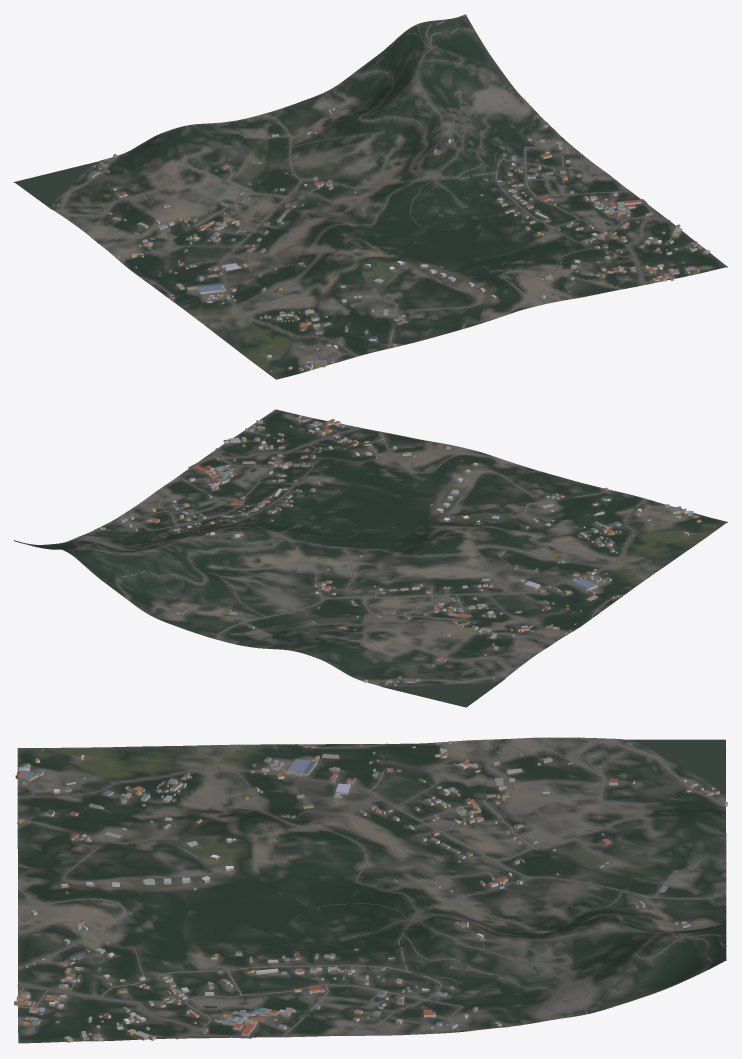
3 views of the same model, one above another, from view 1: azimuth 30°, elevation 25°; view 2: azimuth 150°, elevation 25°; view 3: azimuth 270°, elevation 25° (orthographic). The views are drawn at different scales.
Visible parts, largest first — view 1: ground, buildings, roads, water; view 2: ground, buildings, roads, water; view 3: ground, buildings, roads, water.
Part boxes in pixels (box(x1,y1,x2,y2)): ground: box(14, 14, 727, 379); buildings: box(57, 106, 710, 371); roads: box(61, 15, 699, 369); water: box(15, 162, 610, 225); ground: box(14, 409, 727, 707); buildings: box(100, 415, 715, 685); roads: box(15, 418, 684, 681); water: box(250, 468, 501, 706); ground: box(17, 737, 726, 1043); buildings: box(14, 741, 727, 1042); roads: box(17, 737, 726, 1041); water: box(204, 739, 725, 1008).
Size of the model in its own units: 1406 by 197 by 1413.
